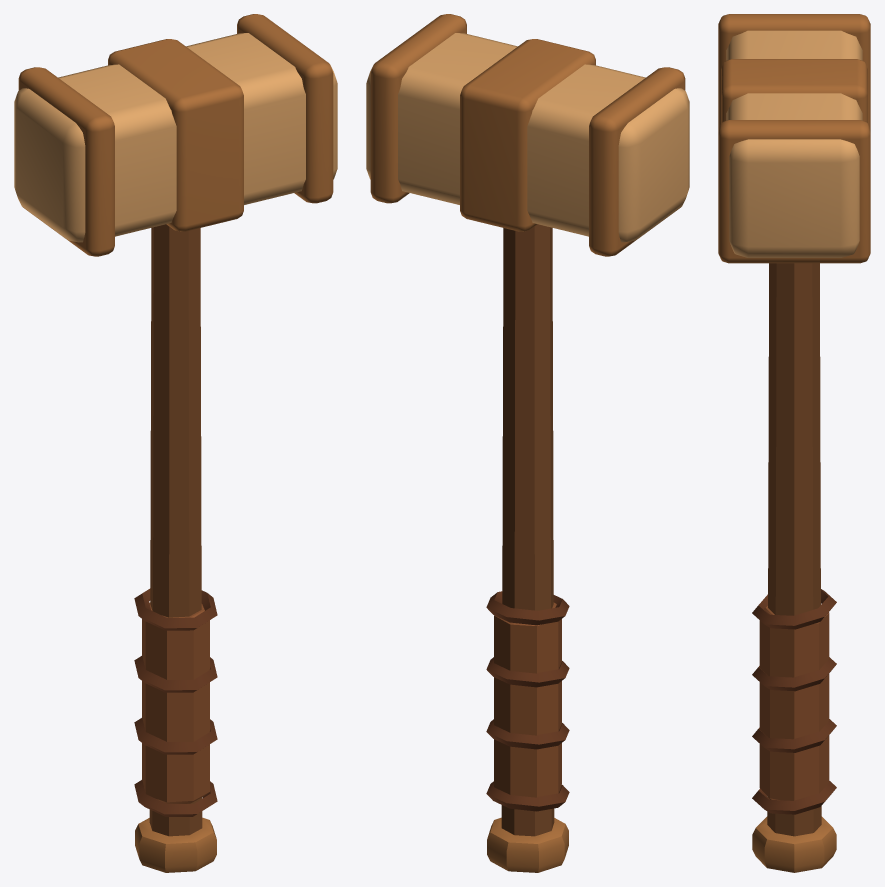
The model's file is WoodHammer.fbx.
3 renders of one model, left to right at view 1: azimuth 30°, elevation 25°; view 2: azimuth 150°, elevation 25°; view 3: azimuth 270°, elevation 25°, orthographic.
Parts seen in each view (by area): view 1: WoodHammer; view 2: WoodHammer; view 3: WoodHammer.
Part boxes in pixels (x1,y1,x2,y2): WoodHammer: (14,14,337,872); WoodHammer: (366,14,689,872); WoodHammer: (718,14,870,872).
Bounding box in the file's own units: 1.15 × 3.2 × 0.56.
Materials: 1 (1 with a texture image).
